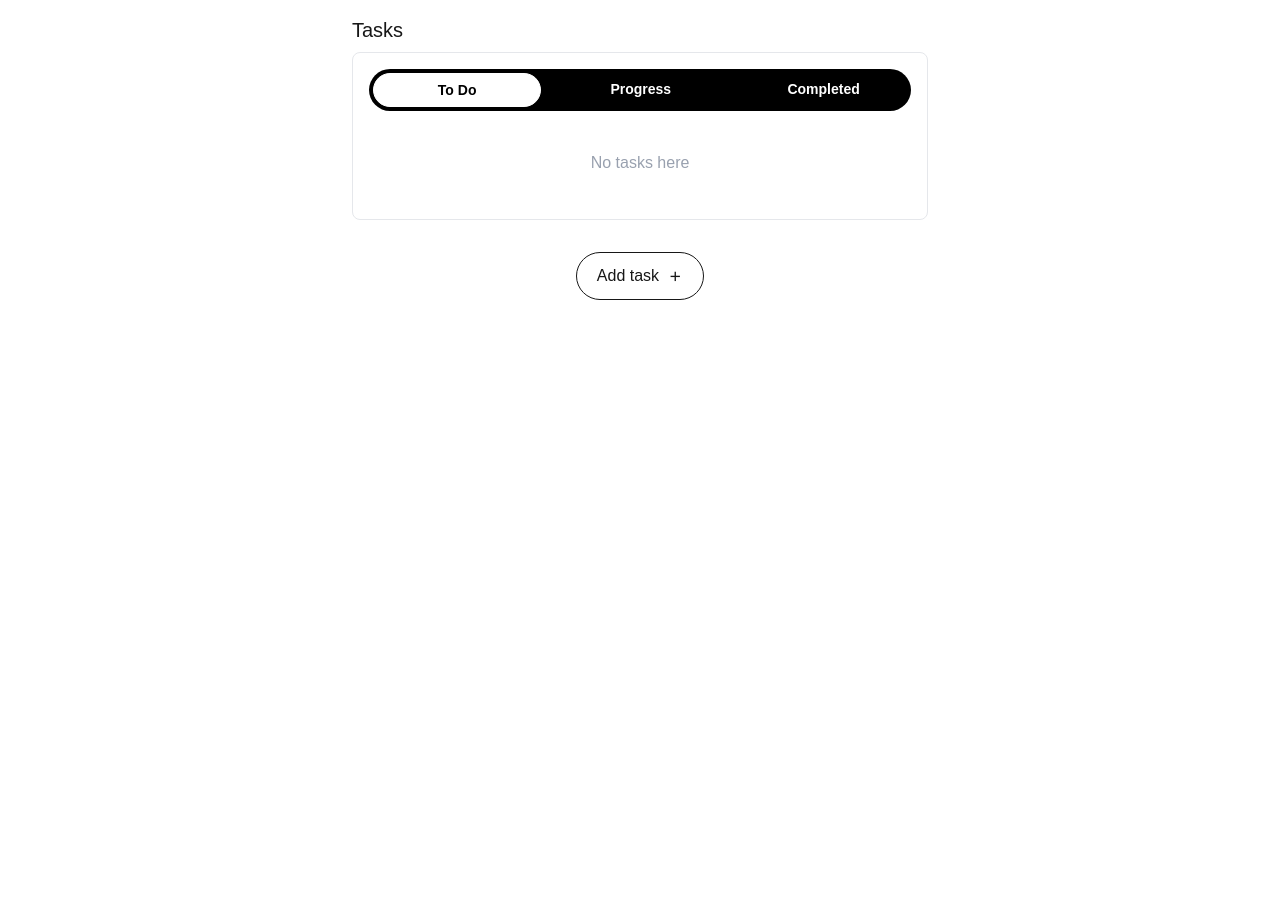
Test: Tasks page › opens CreateOrUpdateTaskDialog when the add task button is clicked
The image size is (1280, 900).
// Simulate a click event on the Add Task button.
Step 1. Click the button "Add task" → (640, 276), box [576,252,704,300]
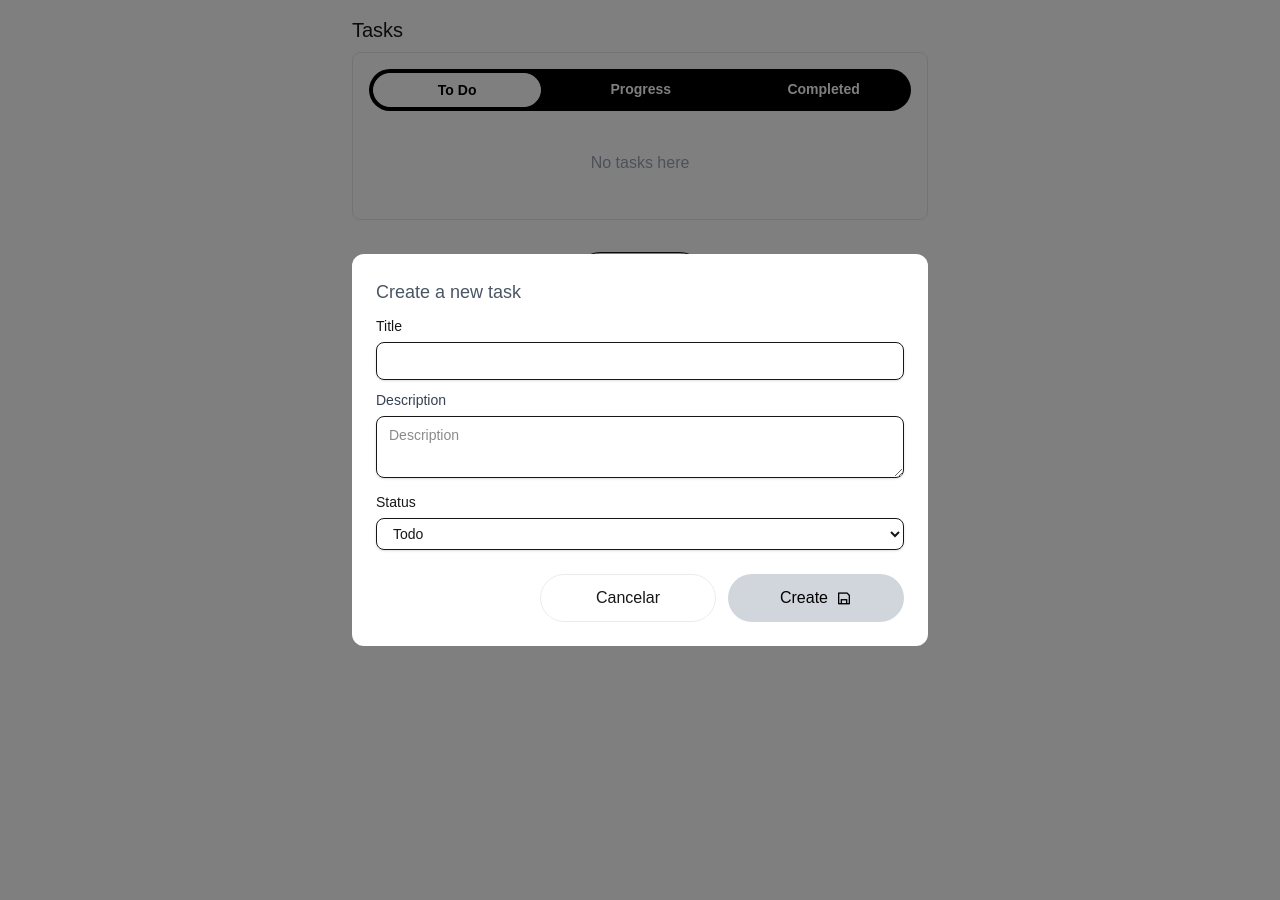
Now the heading "Create a new task" is shown, box [376,282,521,302]
